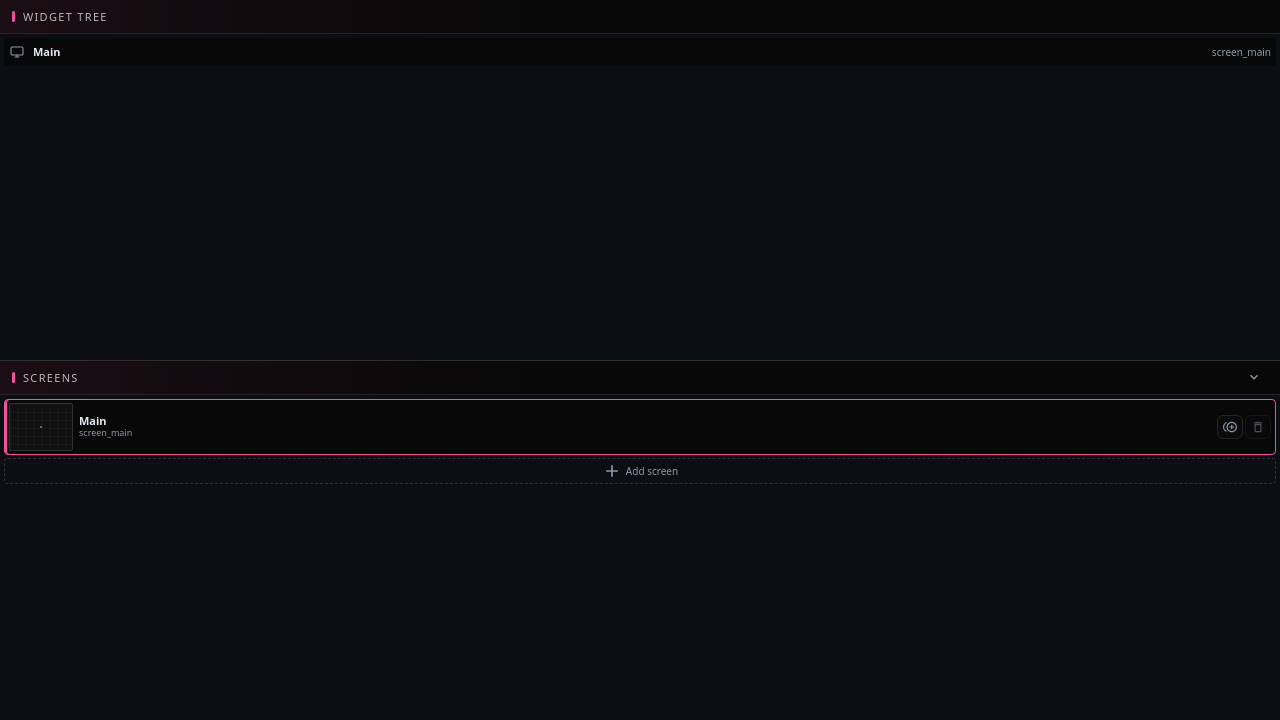
Test: LeftPanelLayout › collapses screens panel leaving only the header plaque
This screenshot has width=1280, height=720.
Check: the element with test id "screens-panel-list" is shown, box [4,398,1276,484]
Click the button with test id "screens-panel-collapse": [1254, 377] box [1240,365,1268,389]
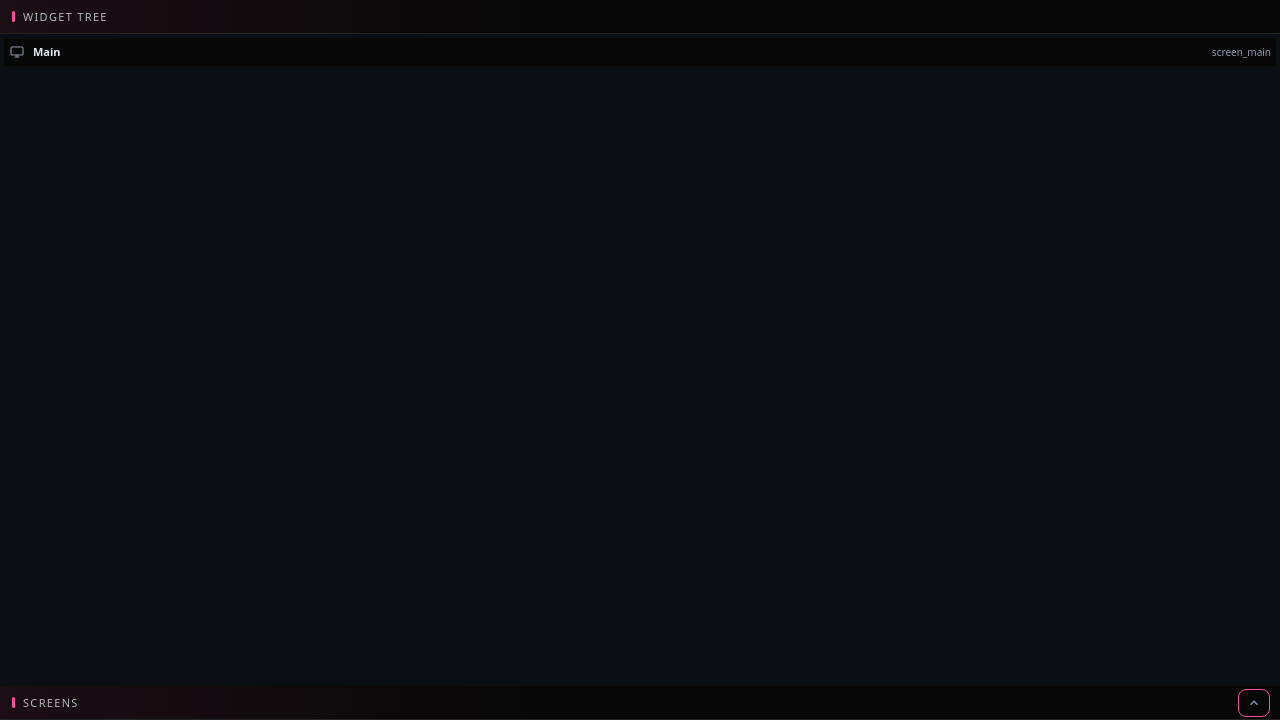
Check: the text "Screens" is shown, box [23,695,79,710]
Check: the element with test id "screens-panel-list" is gone
